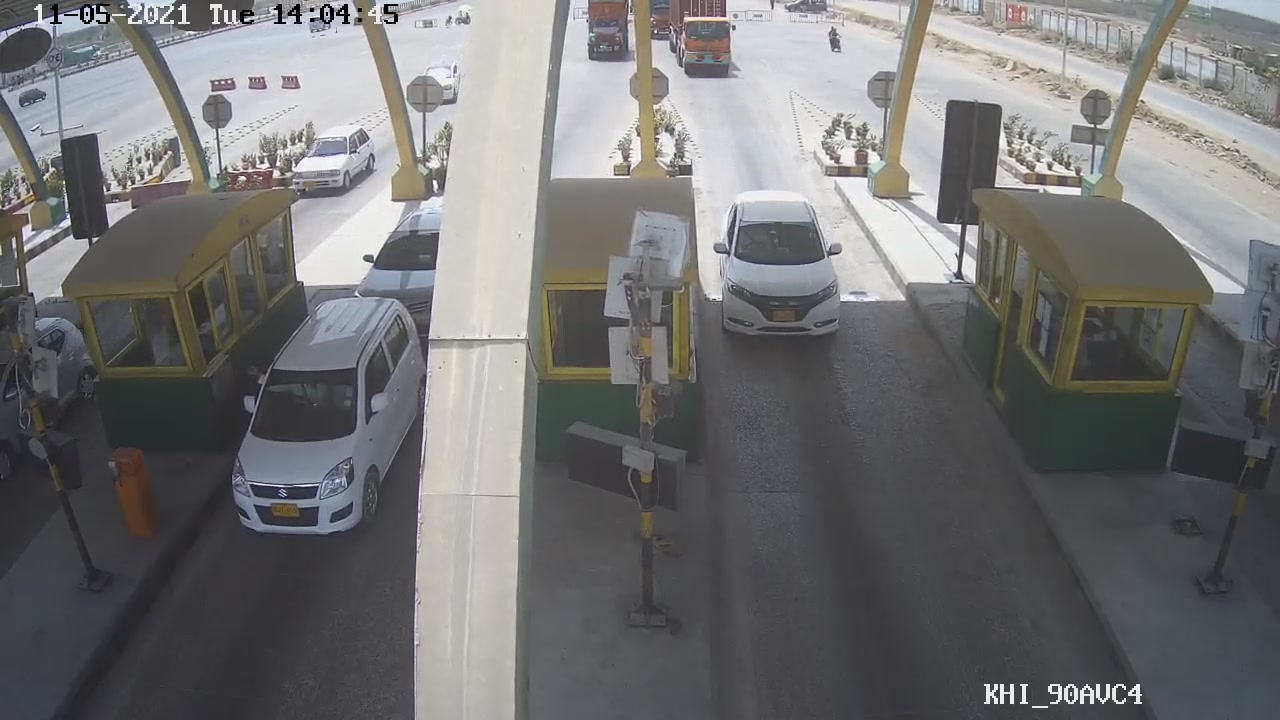F1: (691, 182, 854, 365)
